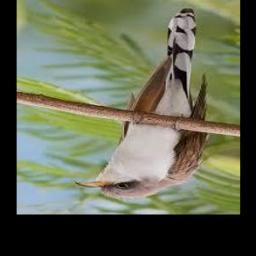Cuckoo: (75, 9, 208, 200)
